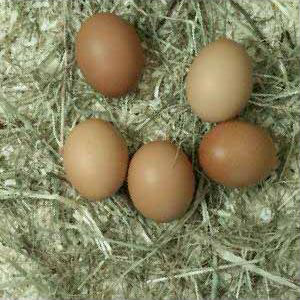egg: (126, 140, 196, 222), (76, 13, 145, 96), (184, 39, 253, 121), (60, 118, 128, 199), (196, 122, 277, 187)
